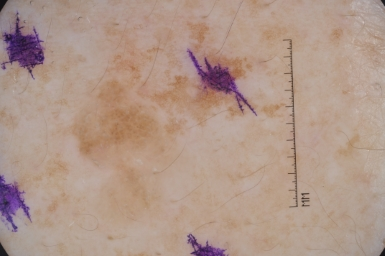seborrheic keratosis: (63, 33, 274, 170)
